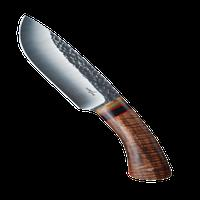knife: (14, 5, 170, 193)
